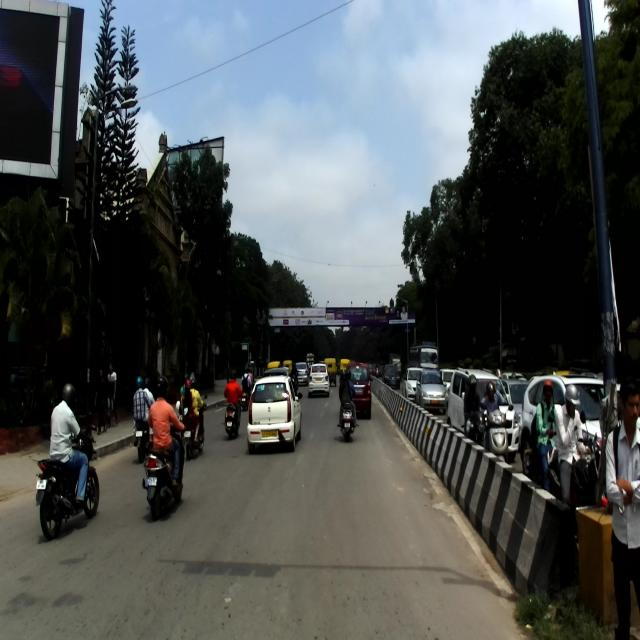car: (446, 367, 519, 461), (246, 374, 305, 452), (343, 361, 373, 418), (307, 362, 330, 398)
motorcycle: (35, 426, 99, 540), (547, 411, 602, 512)
scooter: (142, 406, 188, 520), (480, 402, 513, 465), (338, 391, 357, 440), (224, 396, 244, 440)
